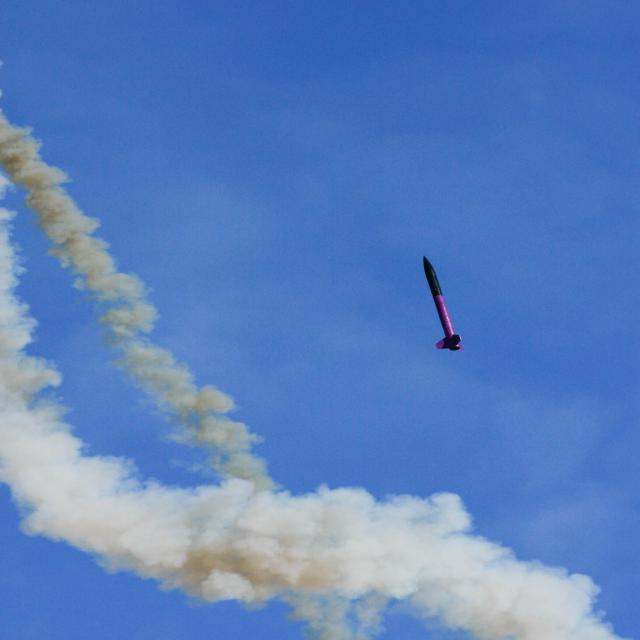Rocket: (422, 255, 466, 352)
